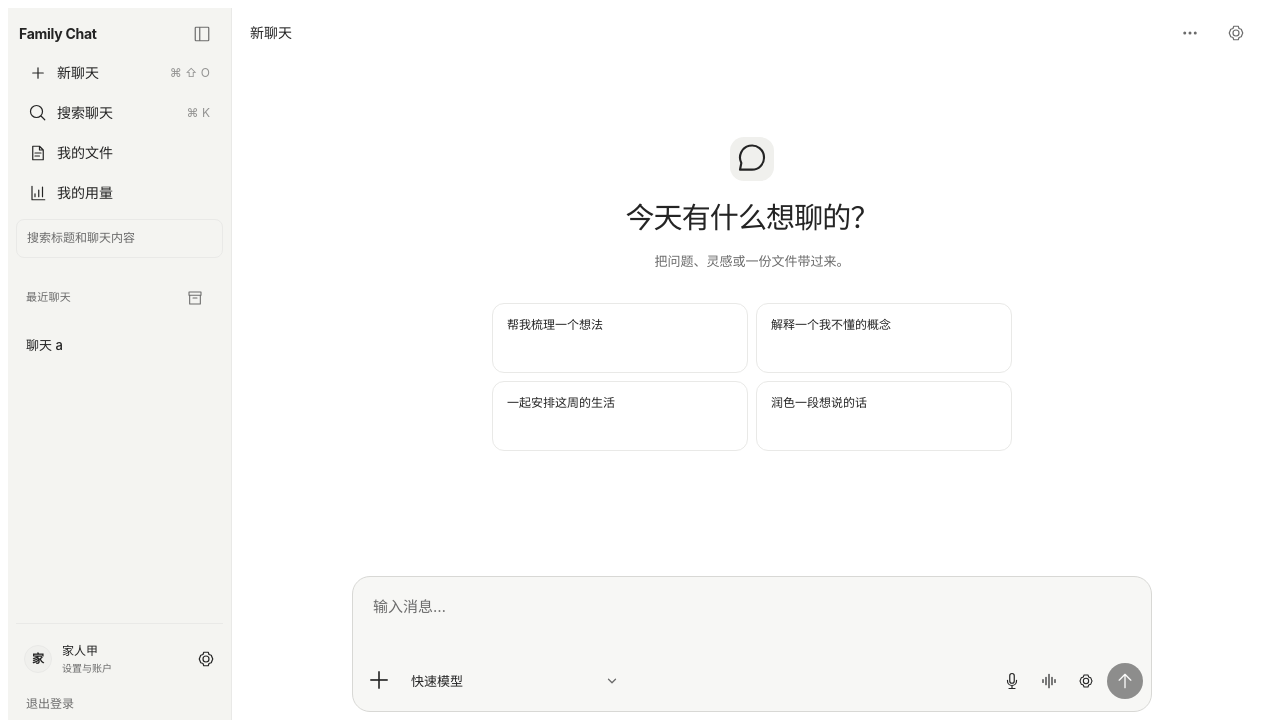
Test: family client account isolation › history restores a stored effort while a new conversation returns to low
This screenshot has width=1280, height=720.
Click the button "聊天 a" at (120, 345), box [16,328,223,362]
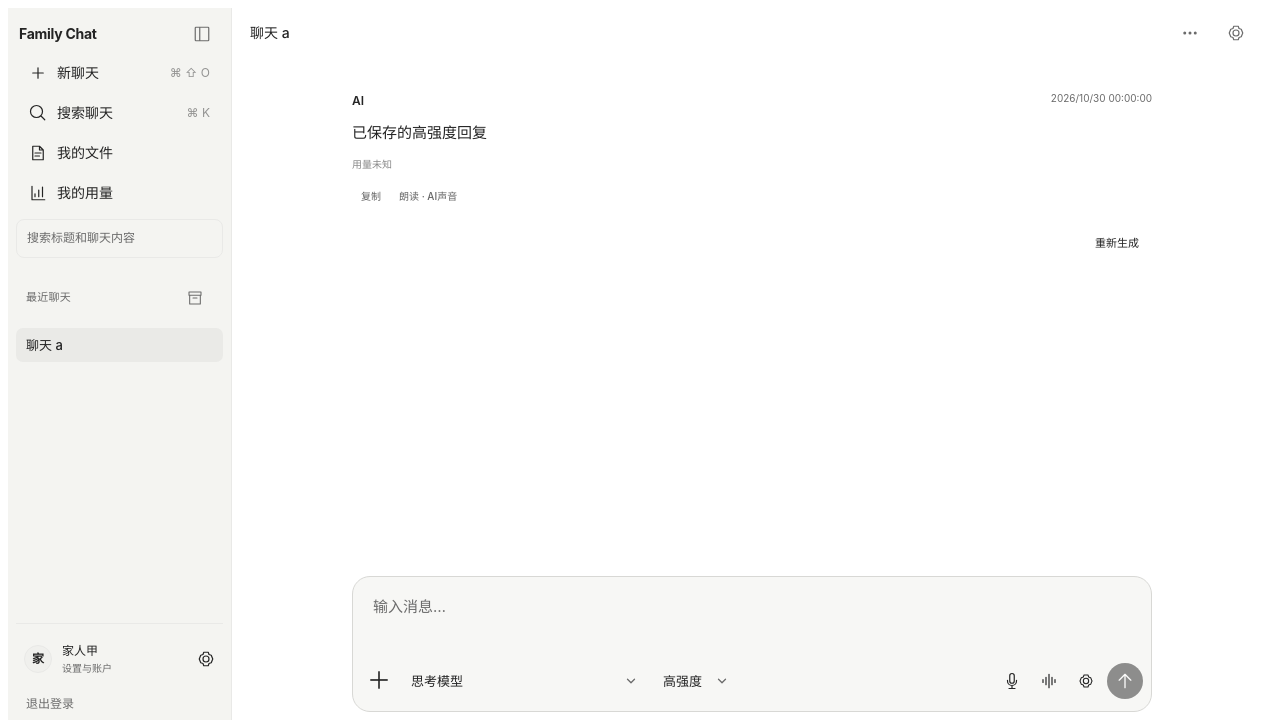
Expected: the dropdown named "推理强度" holds "high", [652,659,740,703]
Click the button with aria-label "＋ 新聊天" at (120, 73), box [19,56,220,90]
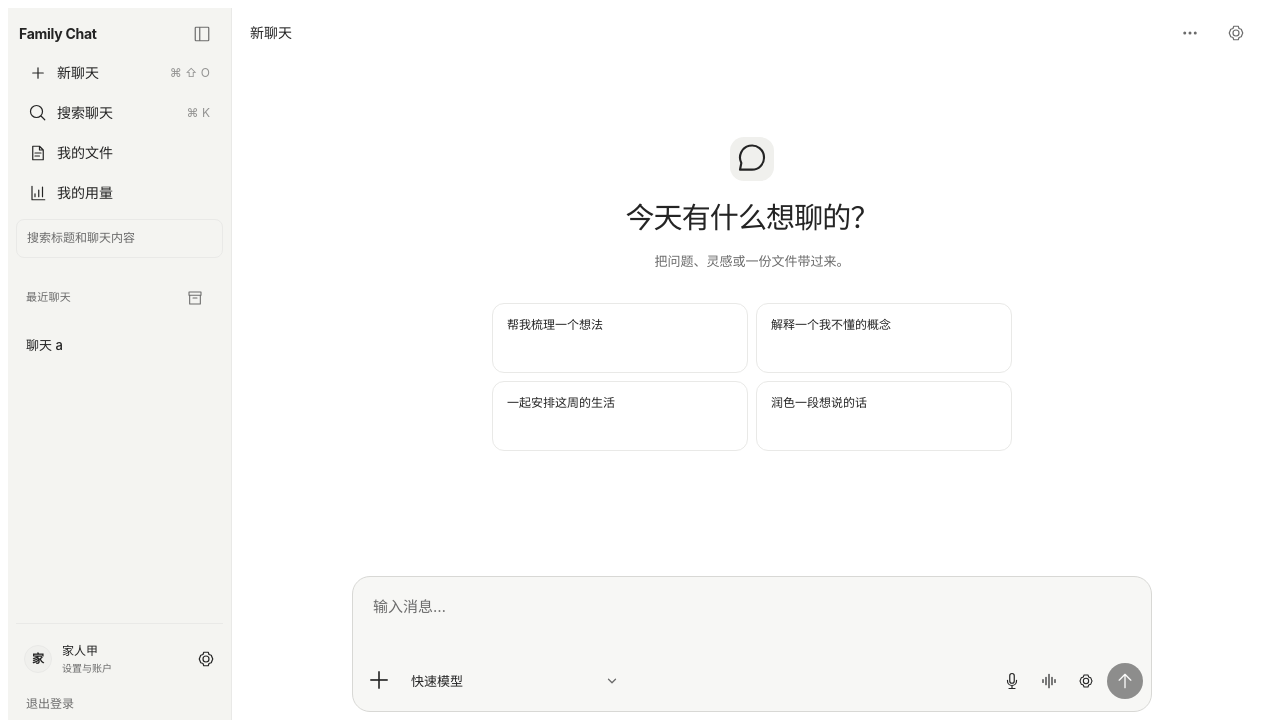
Press the mouse on the dropdown named "选择模型" at (515, 681), box [400,659,630,703]
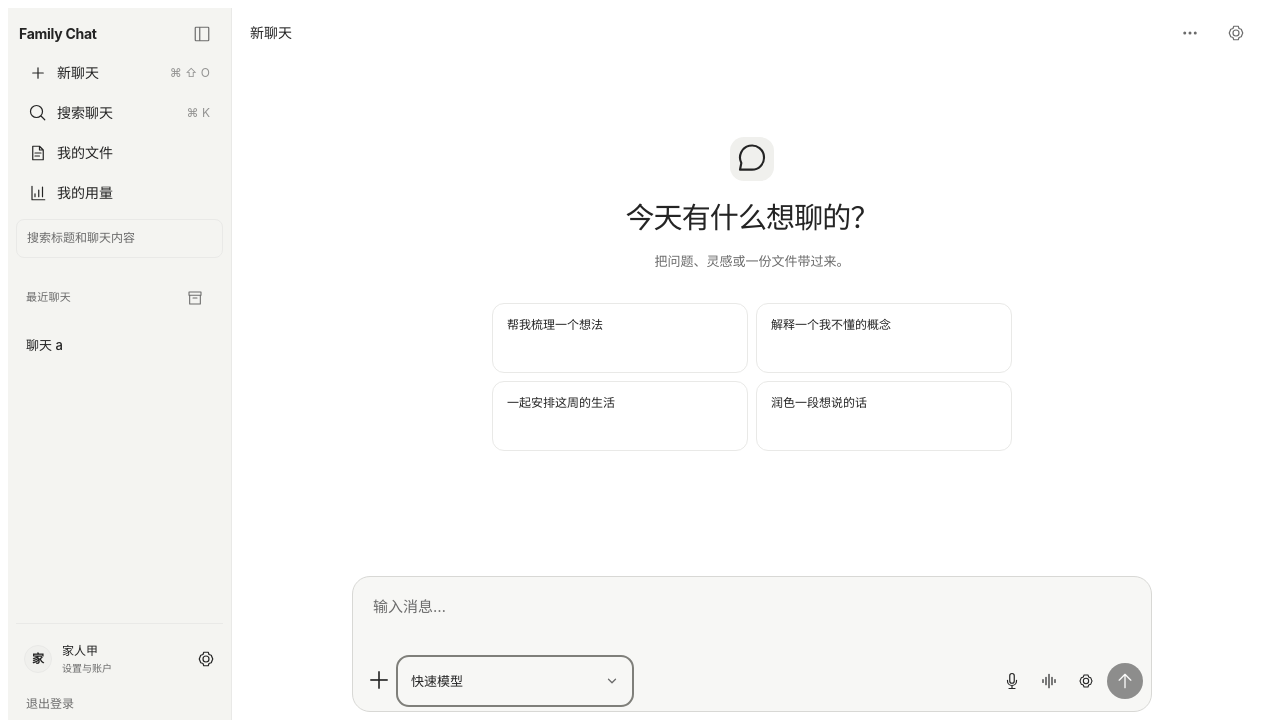
Click the dropdown named "选择模型" at (515, 681), box [400,659,630,703]
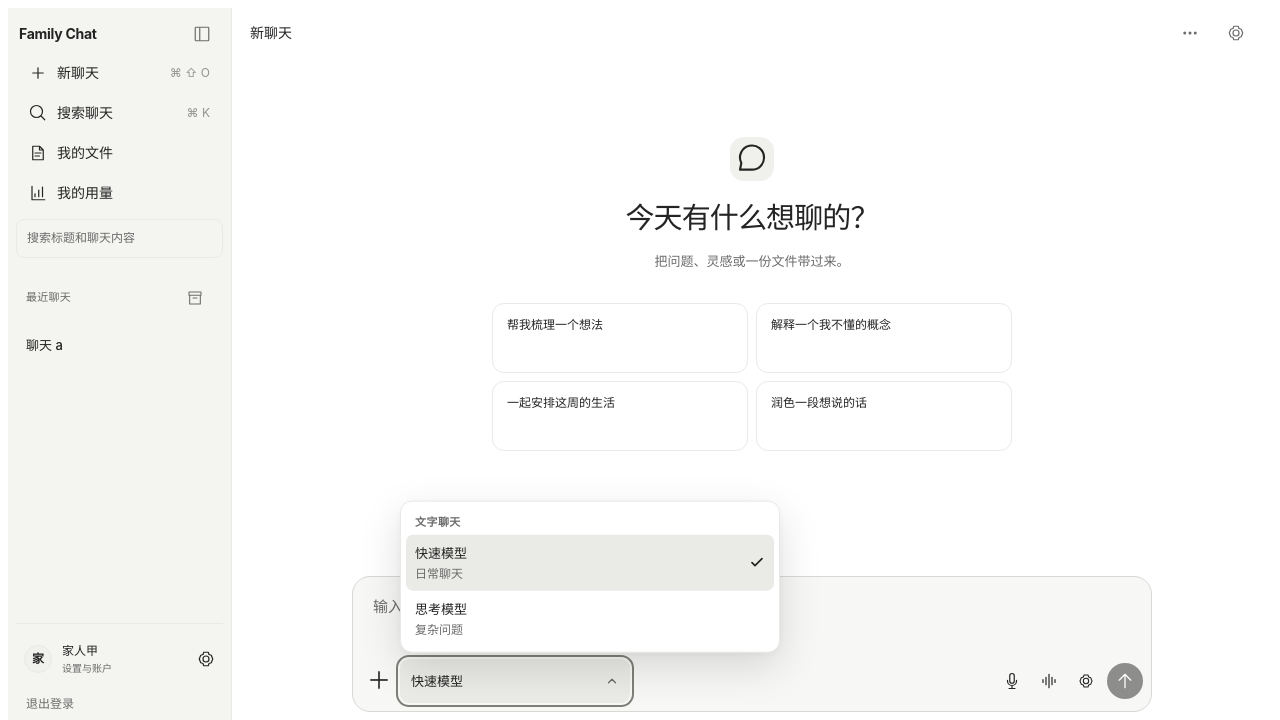
Click the option "思考模型 复杂问题" at (441, 619), box [415,601,467,636]
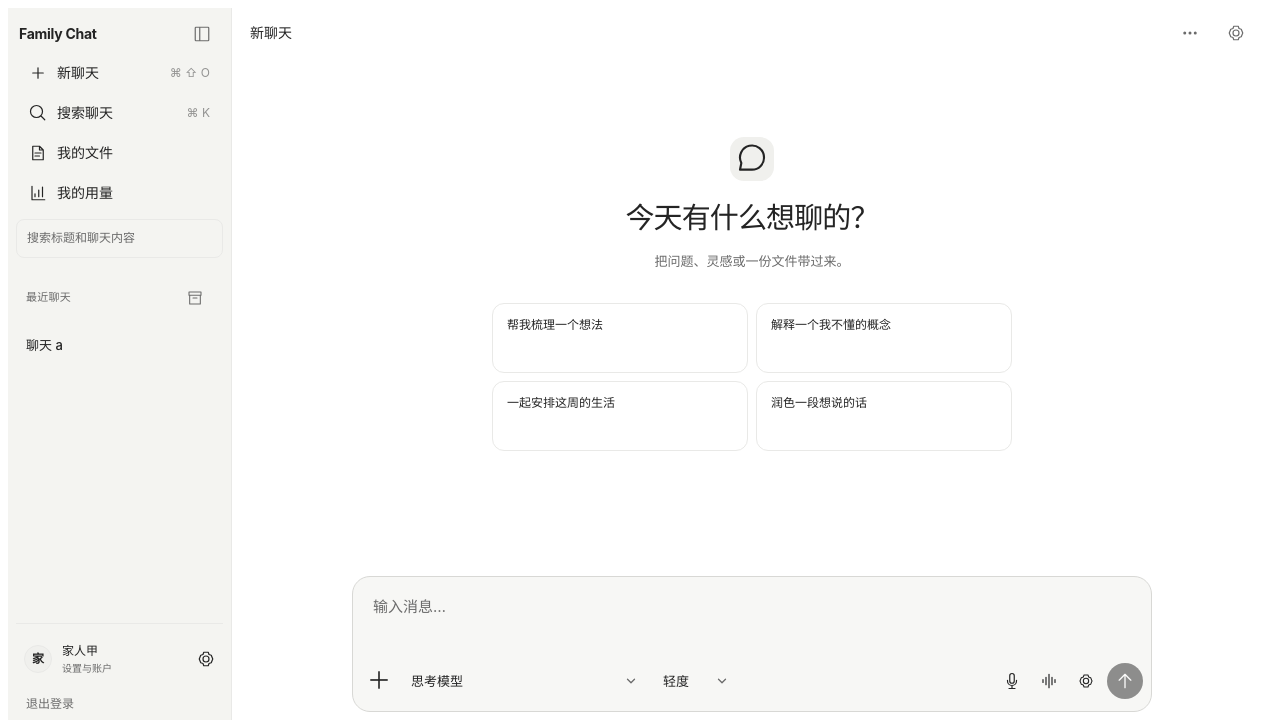
Expected: the dropdown named "推理强度" holds "low", [652,659,740,703]
